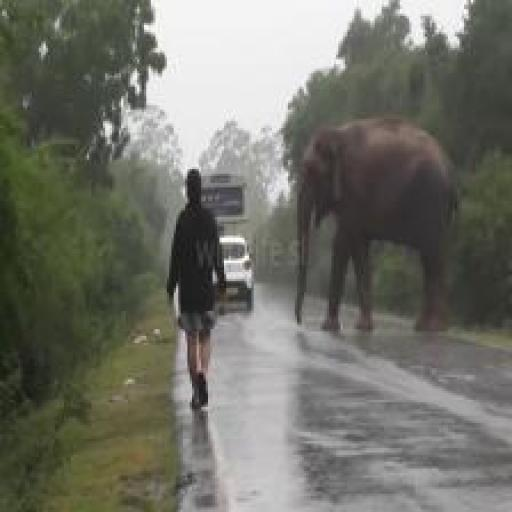Elephant: (288, 107, 465, 351)
